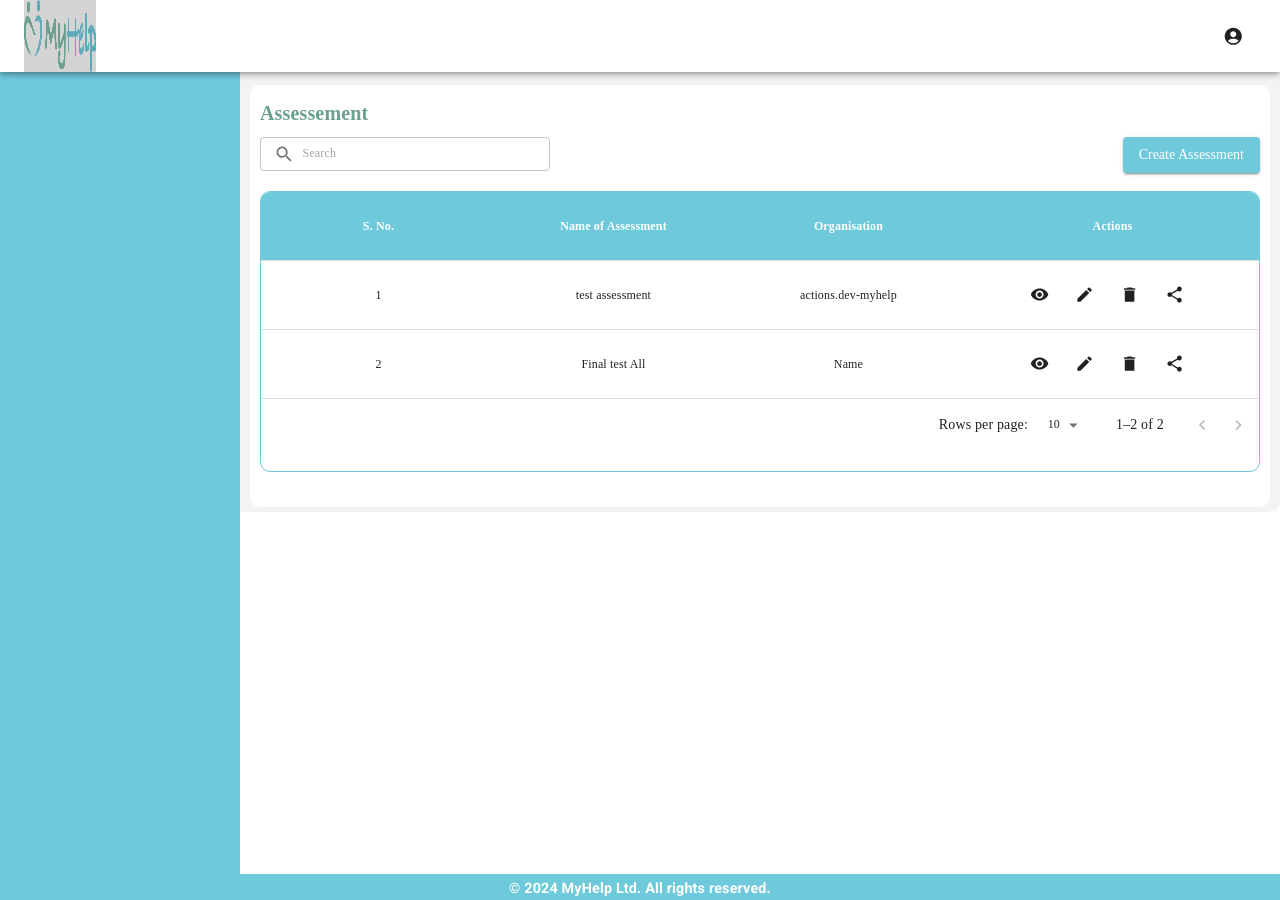
Admin Assessment list › Custom admin create assessment
Click the button with test id "createPlanButton": (1191, 155) [1123,137,1260,173]
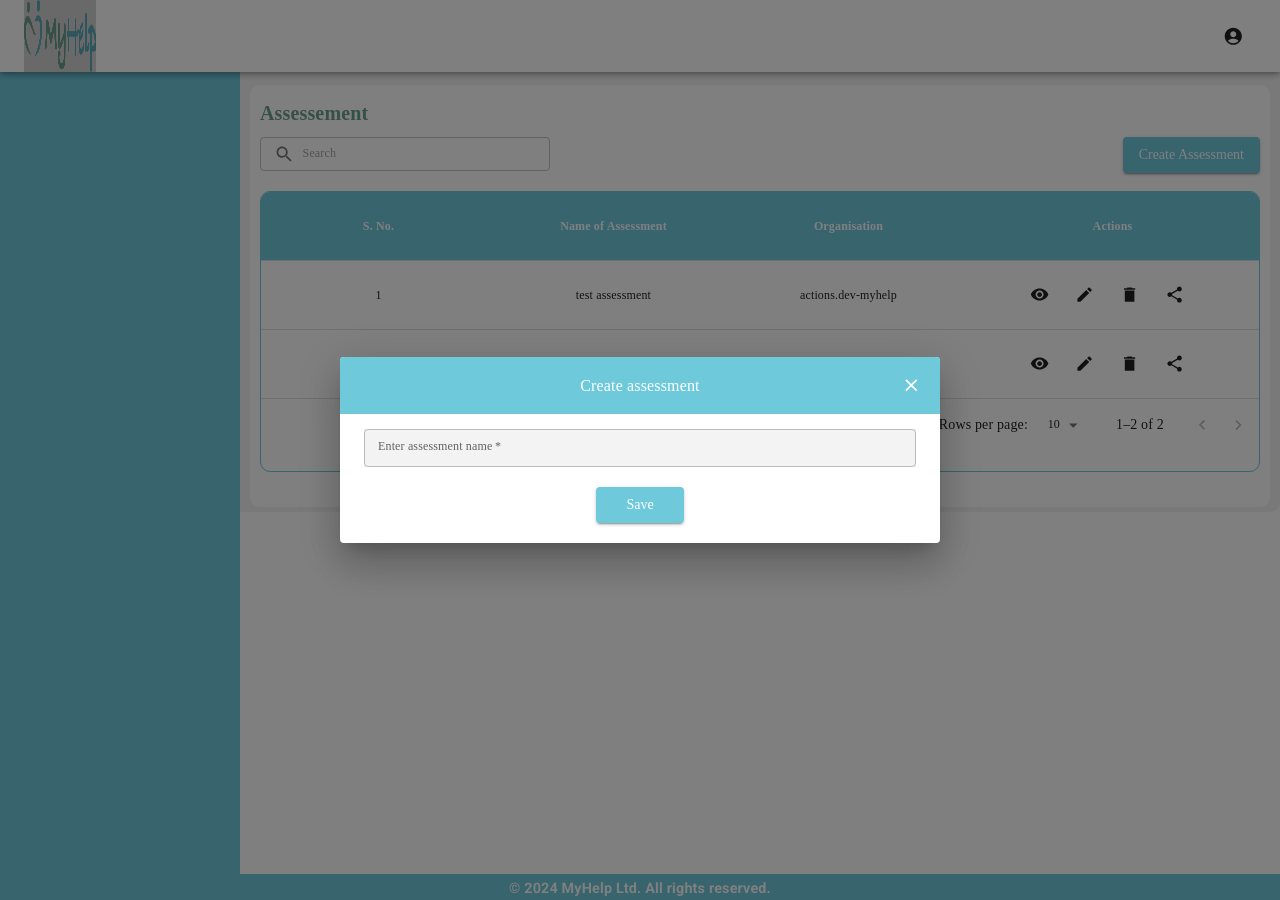
In the field with test id "assessment_name": (640, 448) [364,429,916,467], type "customadmincreate"
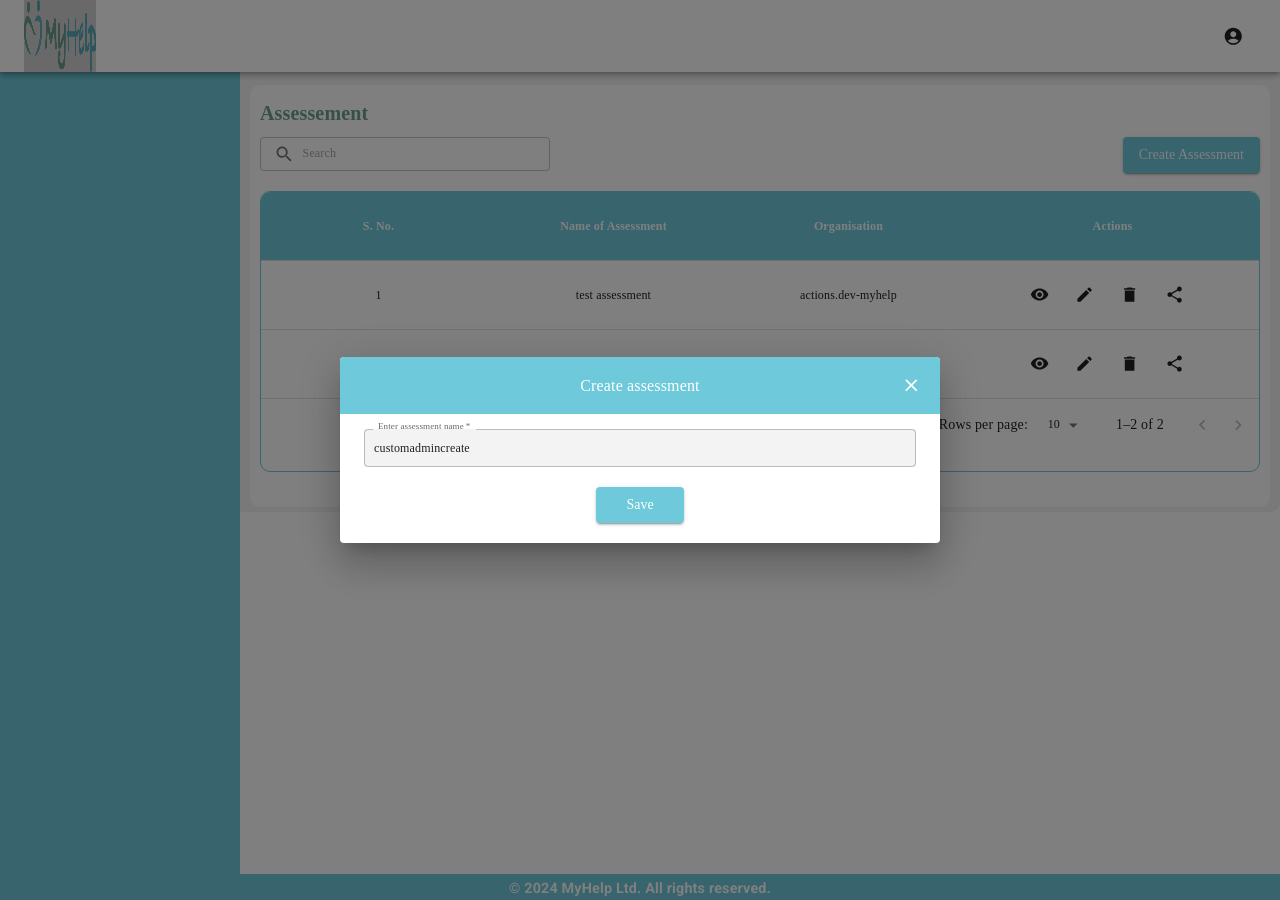
Click the button with test id "addSubmitForm": (640, 505) [596,487,684,523]
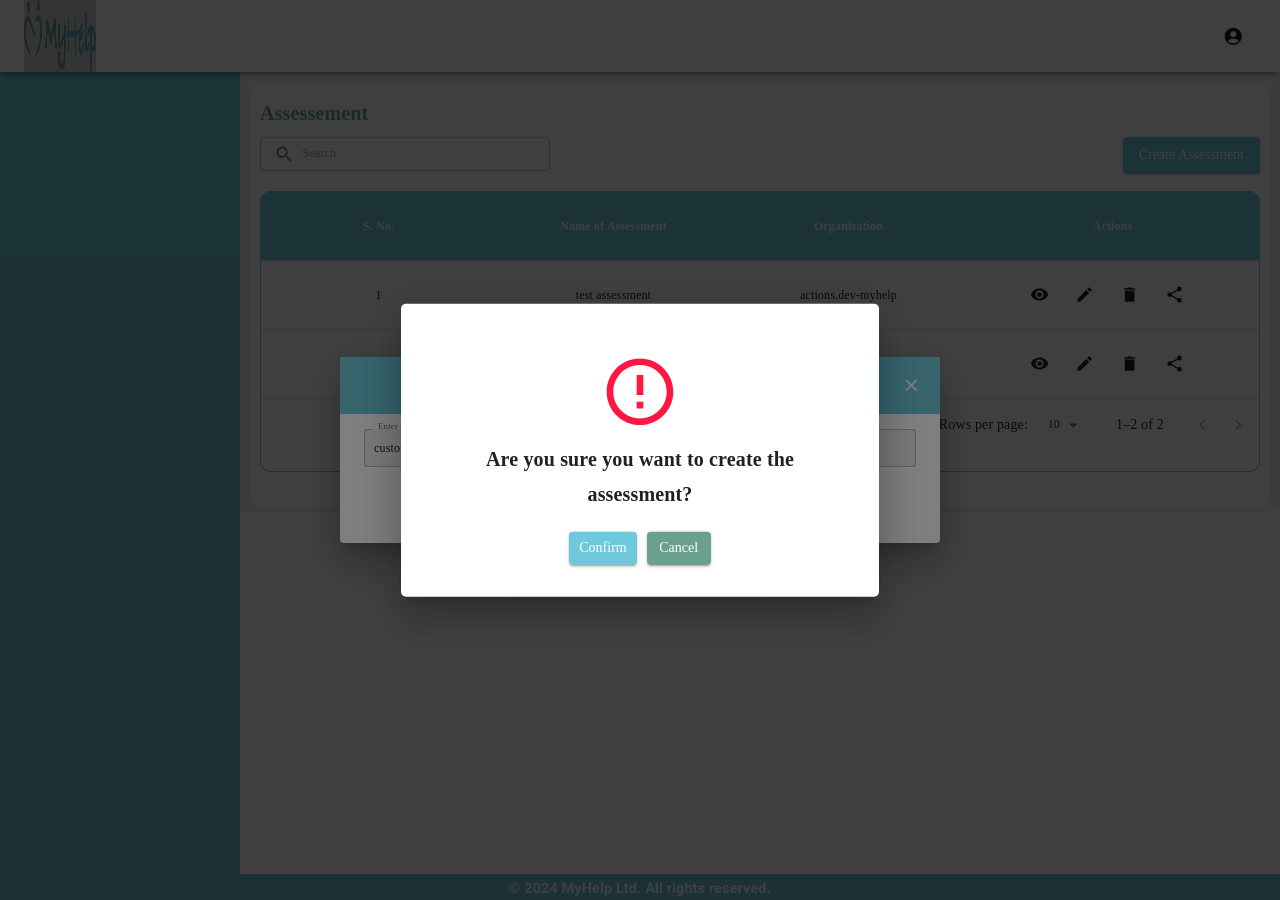
Check: the heading "Are you sure you want to create the assessment?" is shown, box [486,448,794,505]
Click the button with test id "confirmButton": (603, 548) [569,532,637,564]
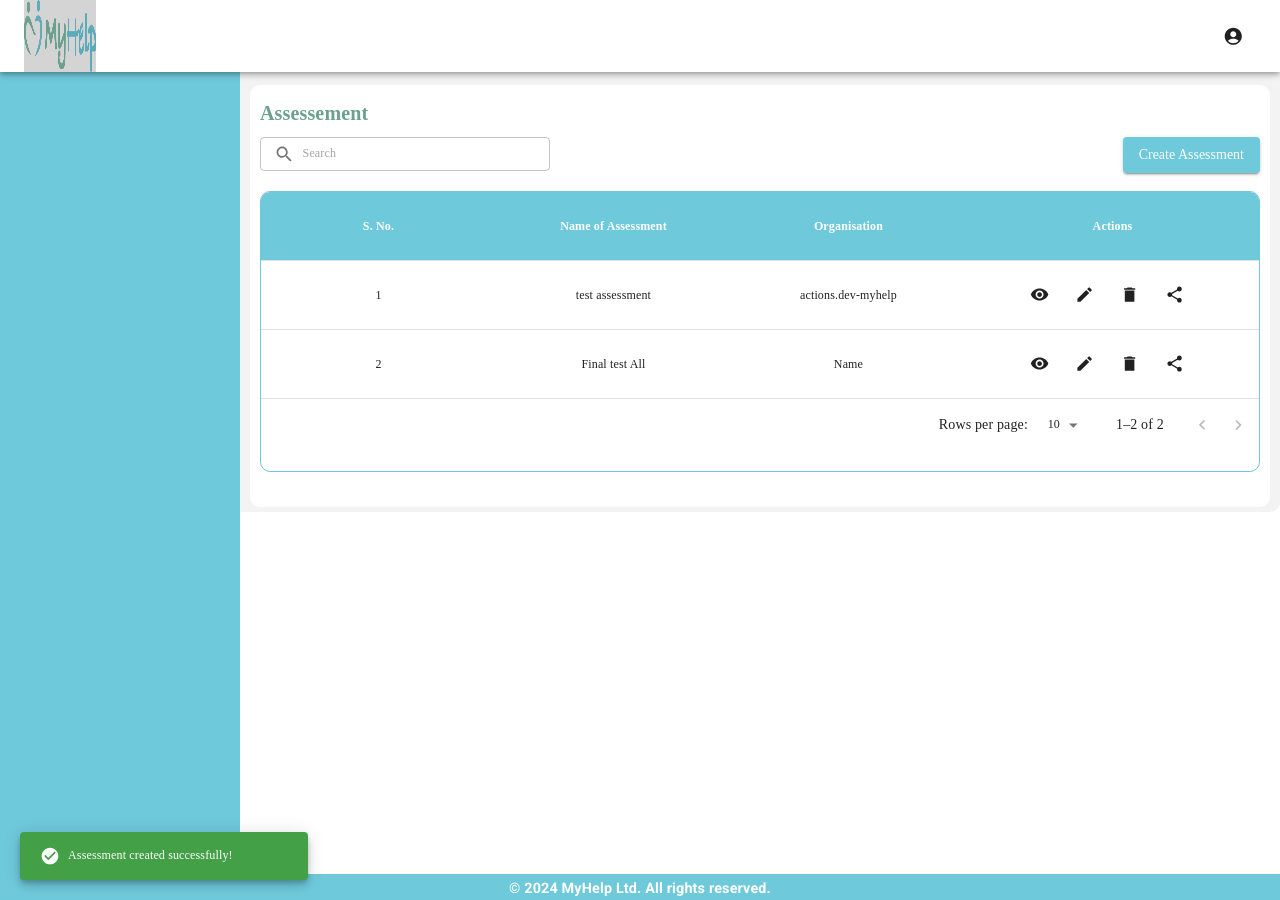
Check: the text "Assessment created successfully!" is shown, box [40,846,233,866]
